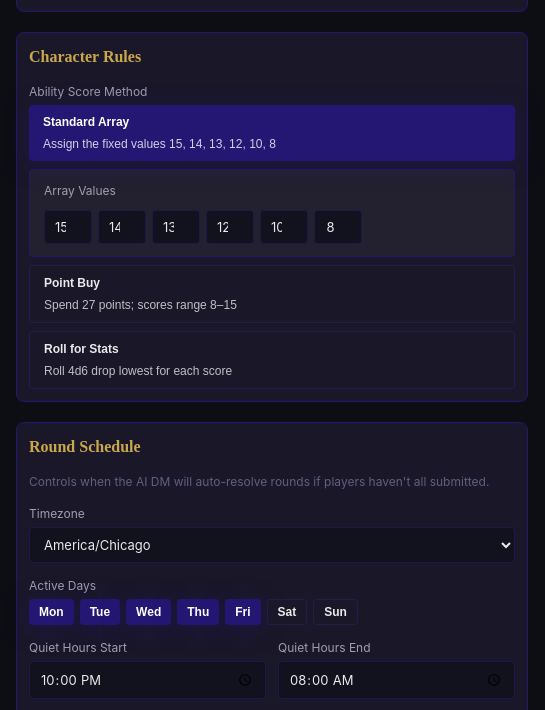
Test: Roll for Stats sub-settings › inputs appear when Roll for Stats is selected, pre-populated with 4 and 3
The width and height of the screenshot is (545, 710).
(page scrolled)
Click the button "Roll for Stats Roll 4d6 drop lowest for each score" at (81, 349), box [29, 331, 515, 389]
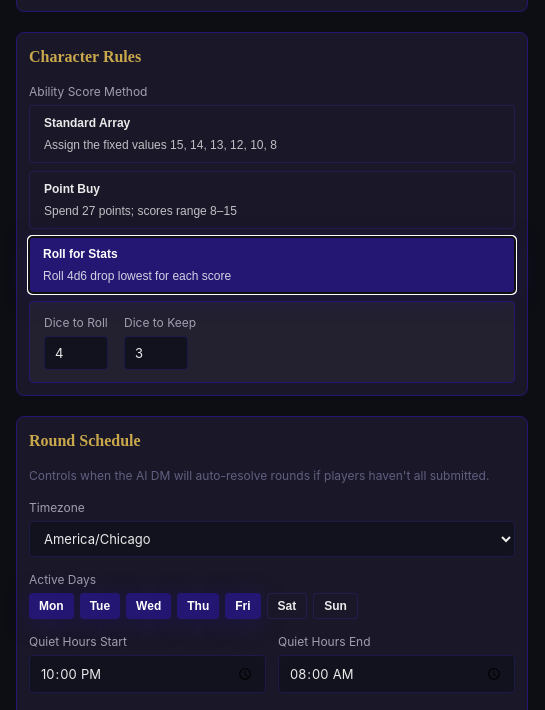
Now the number field named "dice to roll" holds "4", box [44, 336, 108, 370]
Now the number field named "dice to keep" holds "3", box [124, 336, 188, 370]
